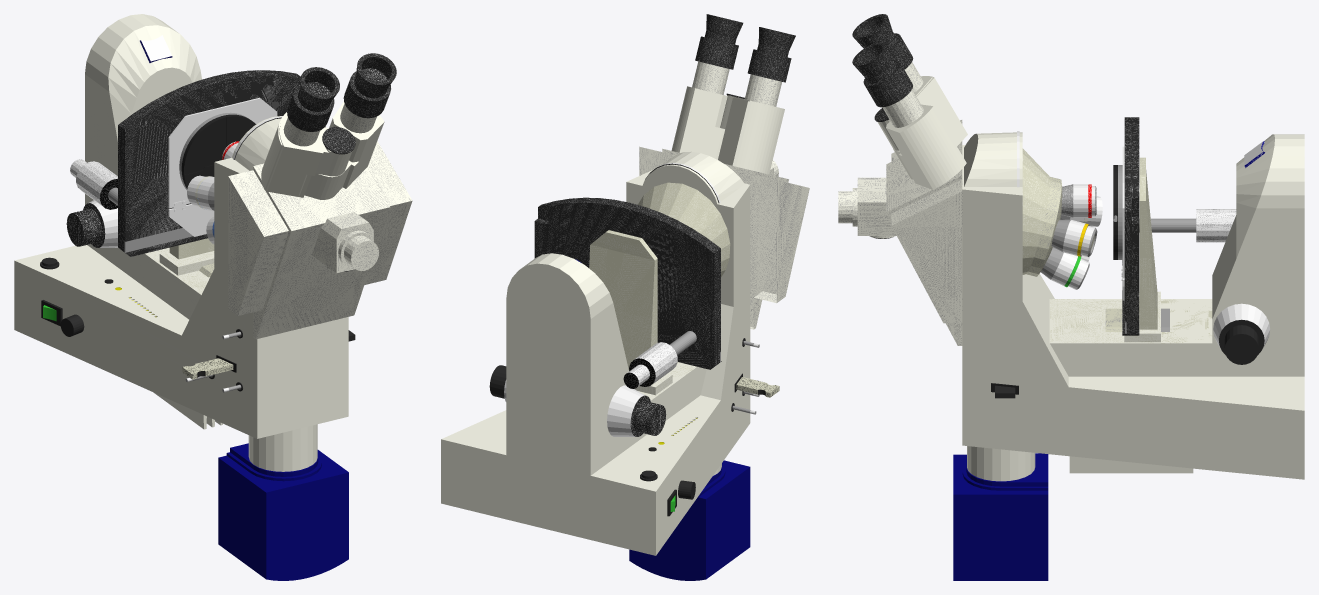
The picture shows the model from 3 angles, left to right: view 1: azimuth 30°, elevation 25°; view 2: azimuth 150°, elevation 25°; view 3: azimuth 270°, elevation 25°; orthographic projection. The views are drawn at different scales.
Parts seen in each view (by area): view 1: axioskop mat; view 2: axioskop mat; view 3: axioskop mat.
Part boxes in pixels (x1=…): axioskop mat: x1=14, y1=14, x2=412, y2=580; axioskop mat: x1=441, y1=14, x2=809, y2=580; axioskop mat: x1=838, y1=14, x2=1304, y2=580.
Size of the model in its own units: 11.02 by 24.56 by 19.3.
